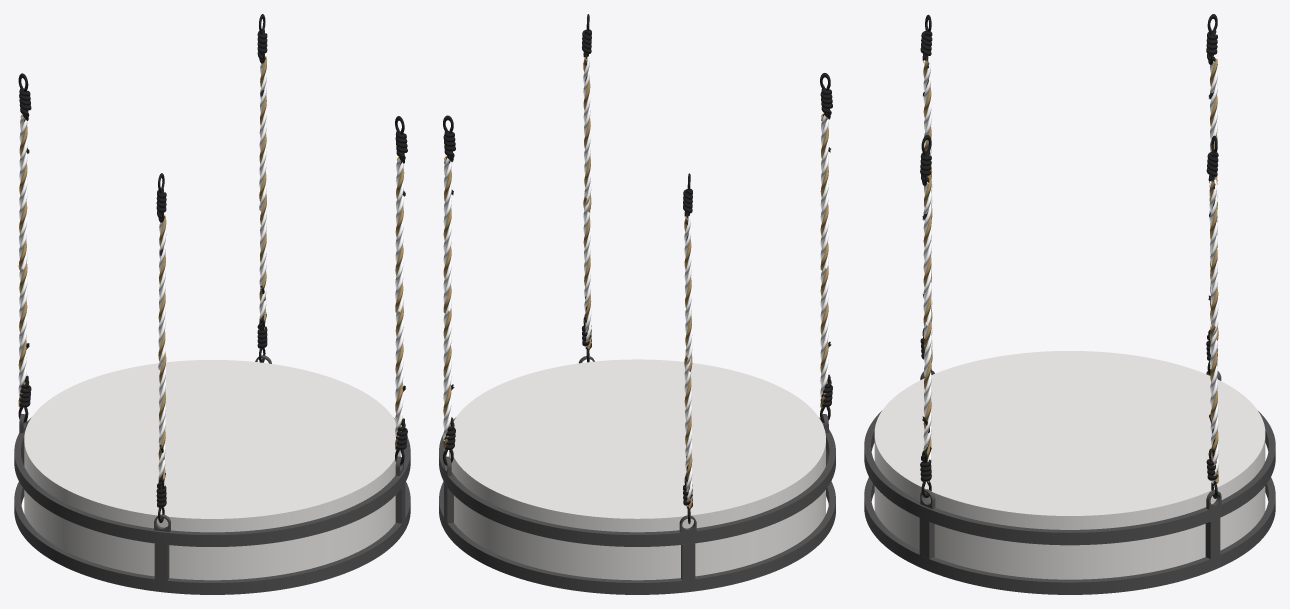
The model's file is 55 Round swing 60 Diameter.obj.
3 renders of one model, left to right at view 1: azimuth 30°, elevation 25°; view 2: azimuth 150°, elevation 25°; view 3: azimuth 270°, elevation 25°, orthographic. The views are drawn at different scales.
Parts seen in each view (by area): view 1: Mesh1 Group3 Group2 Group1 Model, Mesh48 Group28 Group25 Group1 Model, Mesh47 Group27 Group25 Group1 Model, Mesh50 Group30 Group25 Group1 Model; view 2: Mesh1 Group3 Group2 Group1 Model, Mesh48 Group28 Group25 Group1 Model, Mesh47 Group27 Group25 Group1 Model, Mesh51 Group31 Group25 Group1 Model; view 3: Mesh1 Group3 Group2 Group1 Model, Mesh48 Group28 Group25 Group1 Model, Mesh47 Group27 Group25 Group1 Model, Mesh49 Group29 Group25 Group1 Model, Mesh46 Group26 Group25 Group1 Model.
Part boxes in pixels (<box>): Mesh1 Group3 Group2 Group1 Model: <box>24,360,400,580</box>; Mesh48 Group28 Group25 Group1 Model: <box>14,417,410,546</box>; Mesh47 Group27 Group25 Group1 Model: <box>14,482,410,594</box>; Mesh50 Group30 Group25 Group1 Model: <box>154,543,169,580</box>; Mesh1 Group3 Group2 Group1 Model: <box>449,359,825,580</box>; Mesh48 Group28 Group25 Group1 Model: <box>439,417,835,546</box>; Mesh47 Group27 Group25 Group1 Model: <box>439,481,835,594</box>; Mesh51 Group31 Group25 Group1 Model: <box>681,543,695,580</box>; Mesh1 Group3 Group2 Group1 Model: <box>874,351,1265,579</box>; Mesh48 Group28 Group25 Group1 Model: <box>864,411,1275,545</box>; Mesh47 Group27 Group25 Group1 Model: <box>864,477,1275,594</box>; Mesh49 Group29 Group25 Group1 Model: <box>1205,518,1220,559</box>; Mesh46 Group26 Group25 Group1 Model: <box>919,518,934,558</box>.
Size of the model in its own units: 60 by 69.63 by 60.
